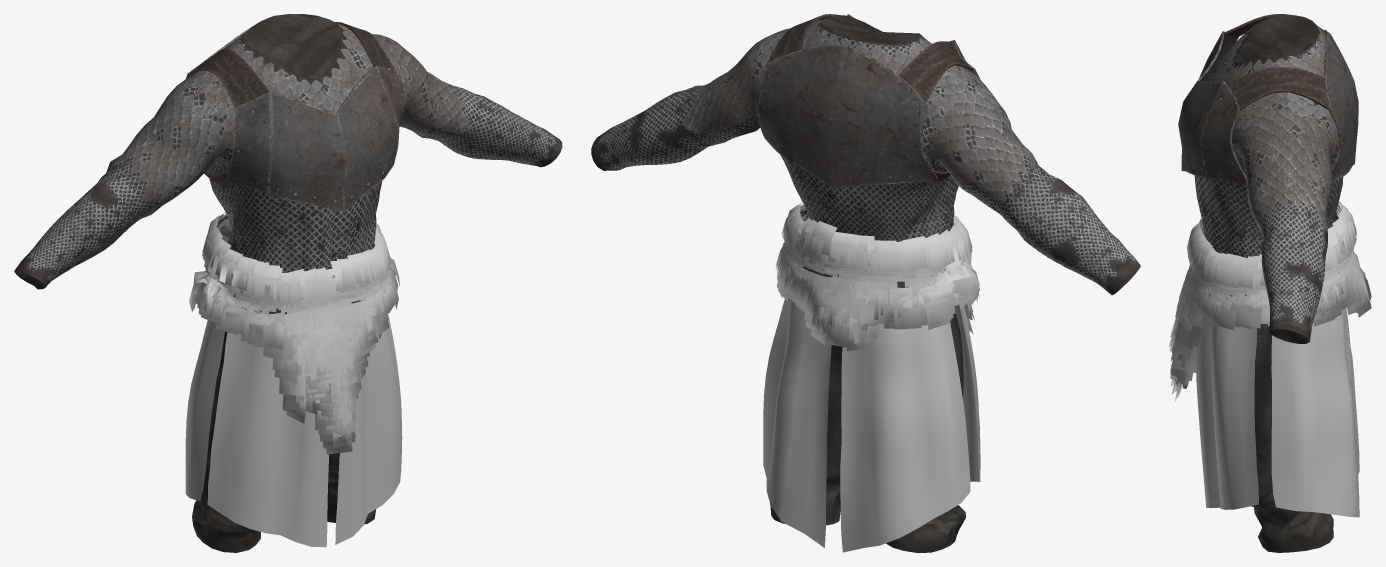
File: sk_gb_uruk_chest_med_d.fbx
3 views of the same model, side by side, from view 1: azimuth 30°, elevation 25°; view 2: azimuth 150°, elevation 25°; view 3: azimuth 270°, elevation 25° (orthographic). The views are drawn at different scales.
Visible parts, largest first — view 1: sk_gb_uruk_chest_med_d.base.0, sk_gb_uruk_chest_med_d.skirt.1, sk_gb_uruk_chest_med_d.skirt.2, sk_gb_uruk_chest_med_d.base.1; view 2: sk_gb_uruk_chest_med_d.base.0, sk_gb_uruk_chest_med_d.skirt.1, sk_gb_uruk_chest_med_d.base.1, sk_gb_uruk_chest_med_d.skirt.2; view 3: sk_gb_uruk_chest_med_d.base.0, sk_gb_uruk_chest_med_d.skirt.1, sk_gb_uruk_chest_med_d.skirt.2, sk_gb_uruk_chest_med_d.base.1.
Boxes of the visible parts, x1=… form: sk_gb_uruk_chest_med_d.base.0: x1=14, y1=14, x2=562, y2=552; sk_gb_uruk_chest_med_d.skirt.1: x1=185, y1=314, x2=402, y2=547; sk_gb_uruk_chest_med_d.skirt.2: x1=189, y1=212, x2=399, y2=454; sk_gb_uruk_chest_med_d.base.1: x1=186, y1=22, x2=405, y2=212; sk_gb_uruk_chest_med_d.base.0: x1=591, y1=15, x2=1140, y2=552; sk_gb_uruk_chest_med_d.skirt.1: x1=763, y1=297, x2=980, y2=552; sk_gb_uruk_chest_med_d.base.1: x1=758, y1=14, x2=979, y2=188; sk_gb_uruk_chest_med_d.skirt.2: x1=776, y1=203, x2=979, y2=351; sk_gb_uruk_chest_med_d.base.0: x1=1194, y1=15, x2=1343, y2=552; sk_gb_uruk_chest_med_d.skirt.1: x1=1196, y1=307, x2=1359, y2=517; sk_gb_uruk_chest_med_d.skirt.2: x1=1169, y1=201, x2=1371, y2=400; sk_gb_uruk_chest_med_d.base.1: x1=1178, y1=14, x2=1358, y2=185.
Size of the model in its own units: 1.35 by 0.4541 by 1.2.
